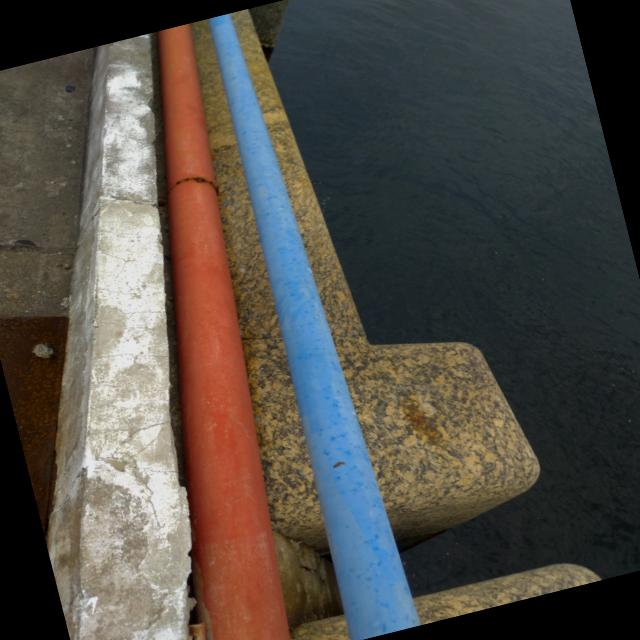gas: (211, 13, 422, 640), (158, 24, 295, 640)
